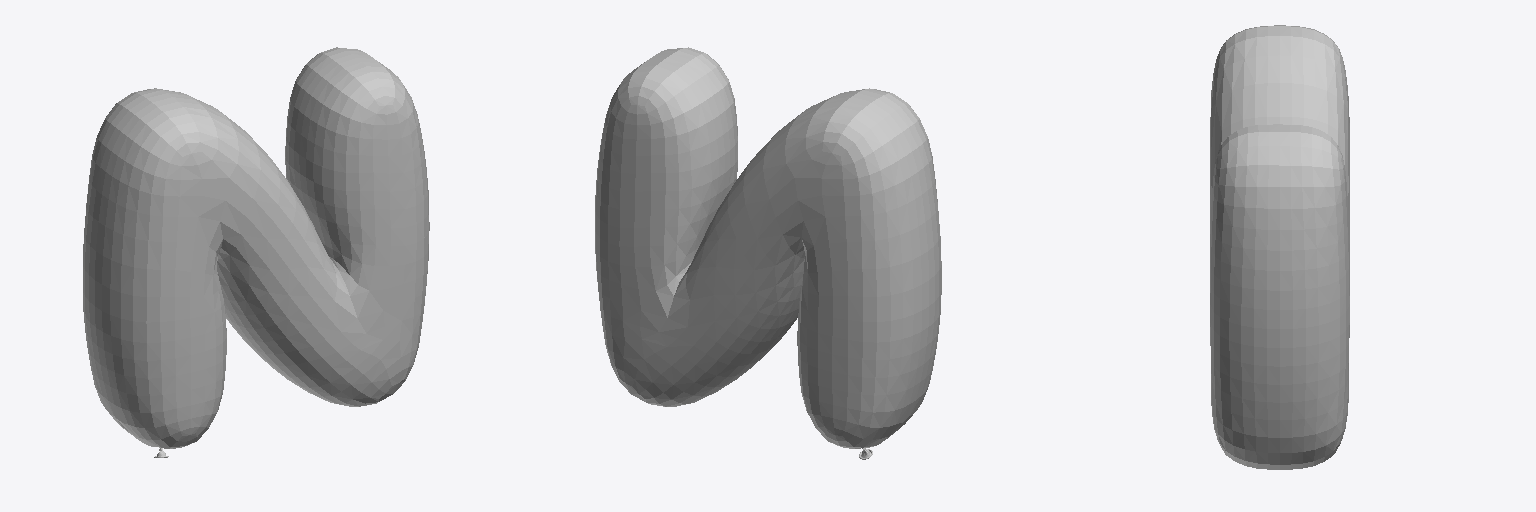
Rendered from balloonn.obj.
3 renders of one model, left to right at view 1: azimuth 30°, elevation 25°; view 2: azimuth 150°, elevation 25°; view 3: azimuth 270°, elevation 25°, orthographic.
Visible parts, largest first — view 1: Balloon_Alphabet_Subdivision_N_Alphabet_N; view 2: Balloon_Alphabet_Subdivision_N_Alphabet_N; view 3: Balloon_Alphabet_Subdivision_N_Alphabet_N.
Boxes of the visible parts, <box> form: Balloon_Alphabet_Subdivision_N_Alphabet_N: <box>83,47,429,457</box>; Balloon_Alphabet_Subdivision_N_Alphabet_N: <box>595,47,941,459</box>; Balloon_Alphabet_Subdivision_N_Alphabet_N: <box>1210,25,1349,469</box>.
Bounding box in the file's own units: 46.98 × 49.9 × 17.76.